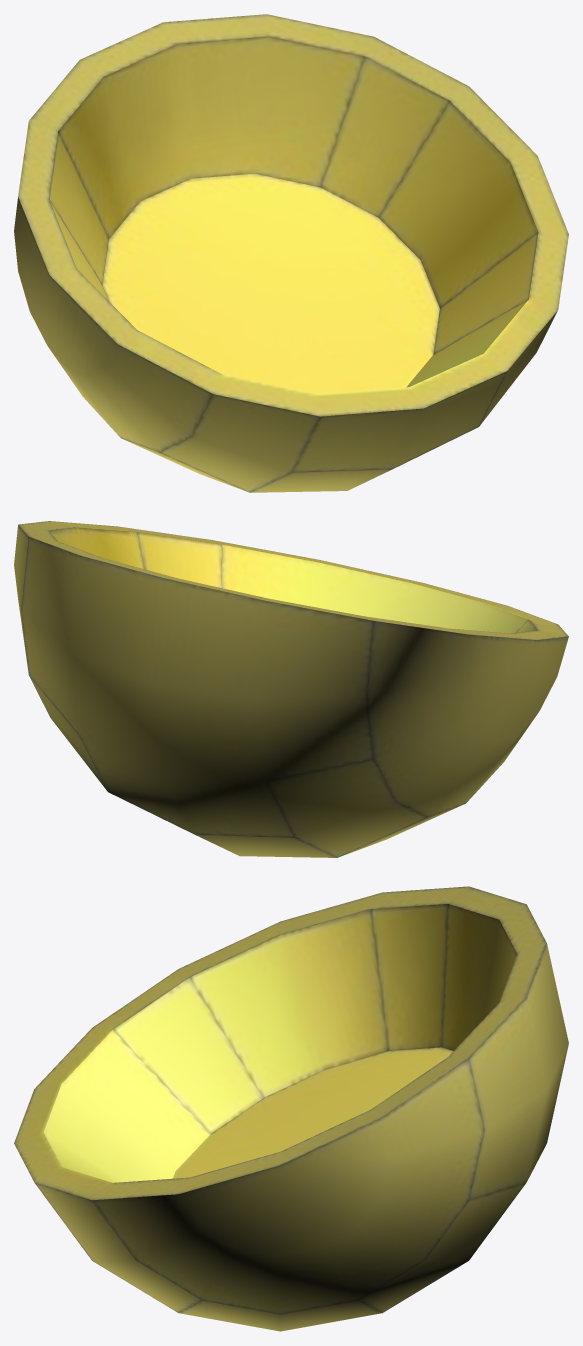
Rendered from player0bottom.obj.
3 renders of one model, top to bottom at view 1: azimuth 30°, elevation 25°; view 2: azimuth 150°, elevation 25°; view 3: azimuth 270°, elevation 25°, orthographic. The views are drawn at different scales.
Parts seen in each view (by area): view 1: Object001; view 2: Object001; view 3: Object001.
Part boxes in pixels (x1,y1,x2,y2): Object001: [14, 14, 568, 492]; Object001: [14, 521, 568, 857]; Object001: [14, 886, 568, 1331].
Size of the model in its own units: 41.65 by 28.8 by 40.07.
1 material, 1 textured.
